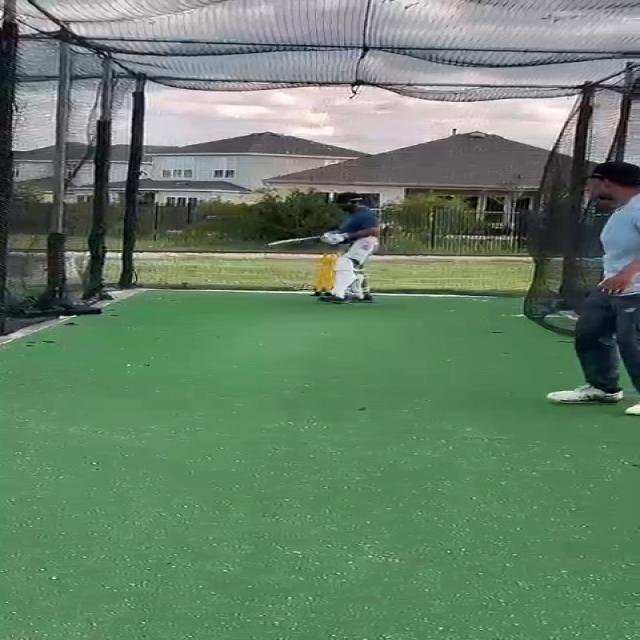batsman: (264, 190, 388, 306)
